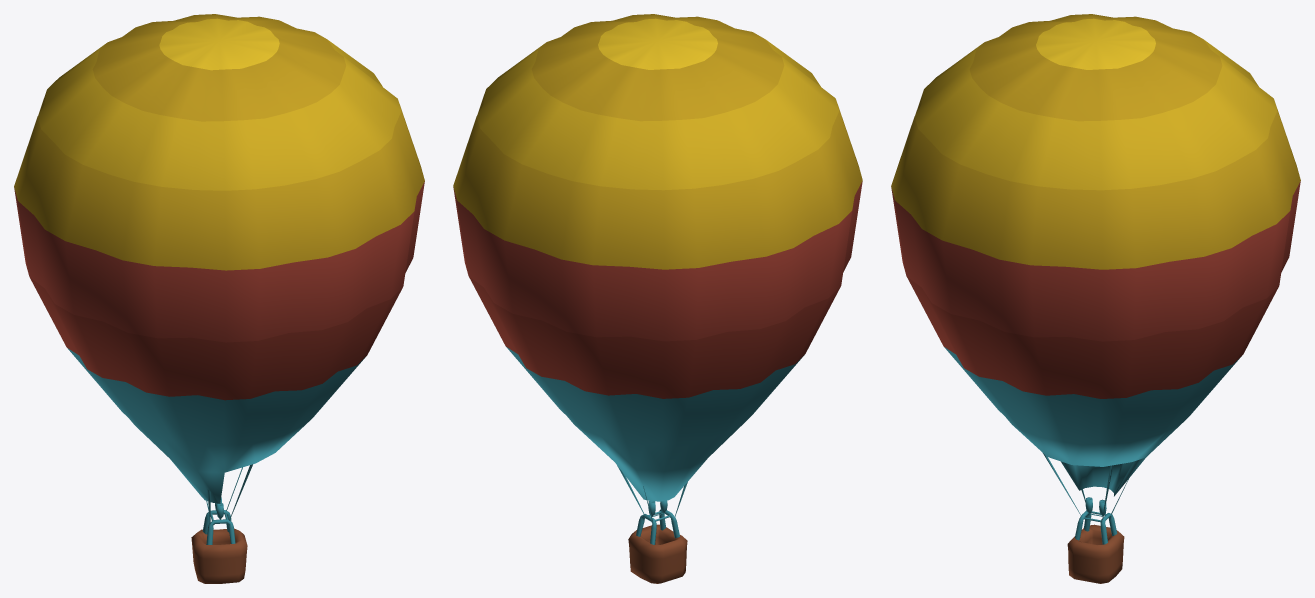
File: animal_balloon001.glb
3 views of the same model, side by side, from view 1: azimuth 30°, elevation 25°; view 2: azimuth 150°, elevation 25°; view 3: azimuth 270°, elevation 25° (orthographic).
Visible parts, largest first — view 1: Spo_Balloon_01; view 2: Spo_Balloon_01; view 3: Spo_Balloon_01.
Boxes of the visible parts, box(x1,y1,x2,y2) form: Spo_Balloon_01: box(14, 14, 424, 583); Spo_Balloon_01: box(453, 14, 862, 583); Spo_Balloon_01: box(891, 14, 1300, 583).
Bounding box in the file's own units: 11.85 × 17.11 × 11.85.
Materials: 1 (1 with a texture image).
